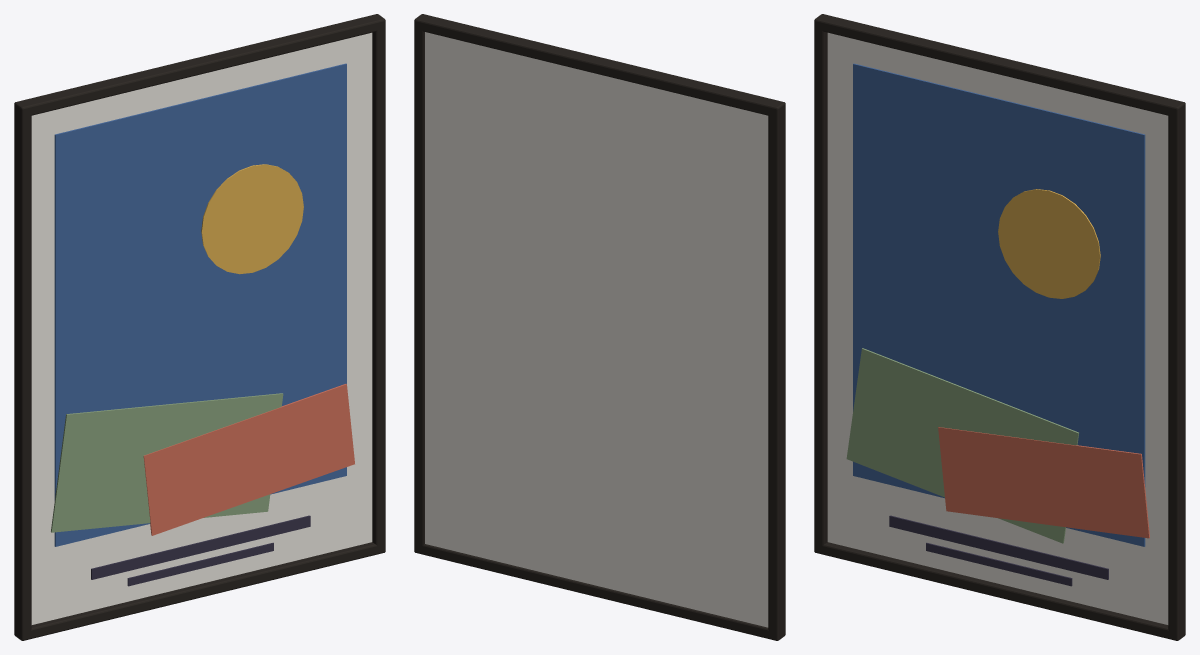
The model's file is hh_cat_poster.glb.
The picture shows the model from 3 angles, left to right: view 1: azimuth 30°, elevation 25°; view 2: azimuth 150°, elevation 25°; view 3: azimuth 330°, elevation 25°; orthographic projection.
Visible parts, largest first — view 1: print, mount, hill.001, hill, frame.001, sun, frame.003, frame.002, frame, title, title.001; view 2: mount, frame.001, frame.002, frame.003, frame; view 3: print, mount, hill.001, hill, frame.003, sun, frame.001, frame.002, frame, title, title.001.
Boxes of the visible parts, left/top/right/bottom form: print: left=54, top=63, right=346, bottom=546; mount: left=31, top=32, right=372, bottom=624; hill.001: left=143, top=384, right=354, bottom=535; hill: left=51, top=393, right=283, bottom=532; frame.001: left=14, top=104, right=31, bottom=640; sun: left=201, top=164, right=303, bottom=274; frame.003: left=372, top=22, right=385, bottom=554; frame.002: left=14, top=14, right=385, bottom=115; frame: left=14, top=542, right=385, bottom=640; title: left=91, top=515, right=310, bottom=579; title.001: left=127, top=542, right=273, bottom=586; mount: left=425, top=32, right=768, bottom=627; frame.001: left=768, top=103, right=785, bottom=640; frame.002: left=414, top=14, right=785, bottom=115; frame.003: left=414, top=21, right=424, bottom=552; frame: left=414, top=544, right=785, bottom=640; print: left=853, top=63, right=1145, bottom=546; mount: left=827, top=32, right=1168, bottom=624; hill.001: left=938, top=427, right=1149, bottom=538; hill: left=846, top=348, right=1078, bottom=543; frame.003: left=1168, top=103, right=1185, bottom=640; sun: left=998, top=189, right=1100, bottom=298; frame.001: left=814, top=21, right=827, bottom=552; frame.002: left=814, top=14, right=1185, bottom=116; frame: left=814, top=542, right=1185, bottom=640; title: left=889, top=515, right=1108, bottom=579; title.001: left=926, top=542, right=1072, bottom=586.
Size of the model in its own units: 0.5 by 0.7 by 0.02.
